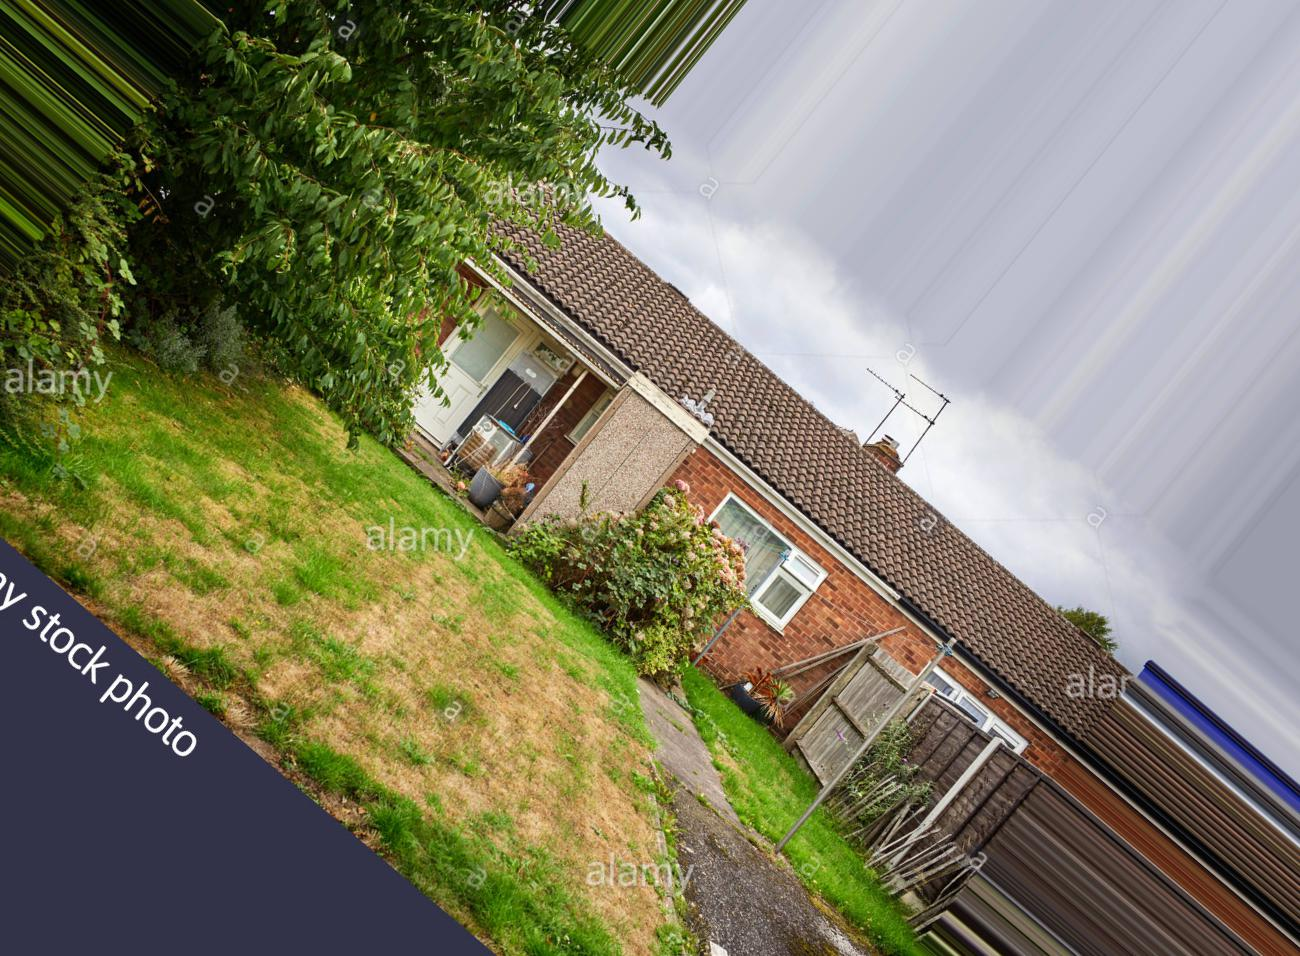patch: (391, 582, 524, 699), (153, 518, 269, 644), (470, 725, 607, 818), (291, 536, 375, 672), (543, 634, 575, 704)
